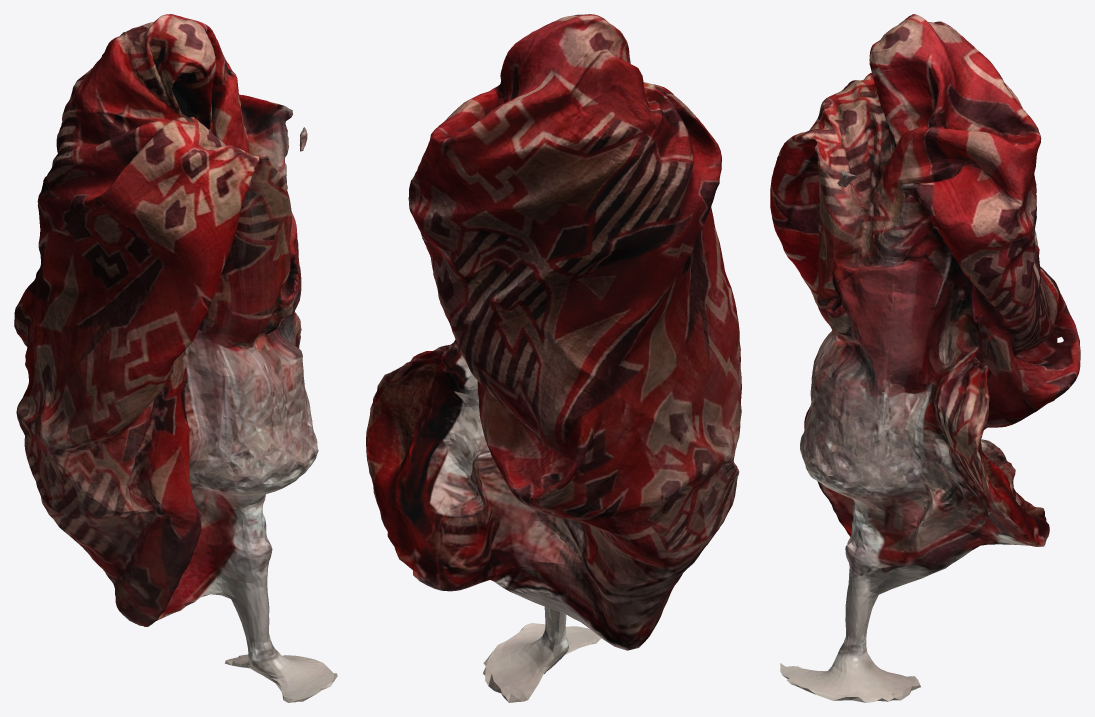
The model's file is Fluted Glass With Cloth.glb.
The picture shows the model from 3 angles, left to right: view 1: azimuth 30°, elevation 25°; view 2: azimuth 150°, elevation 25°; view 3: azimuth 270°, elevation 25°; orthographic projection. The views are drawn at different scales.
Size of the model in its own units: 0.3822 by 0.8115 by 0.3594.
Materials: 1 (1 with a texture image).
